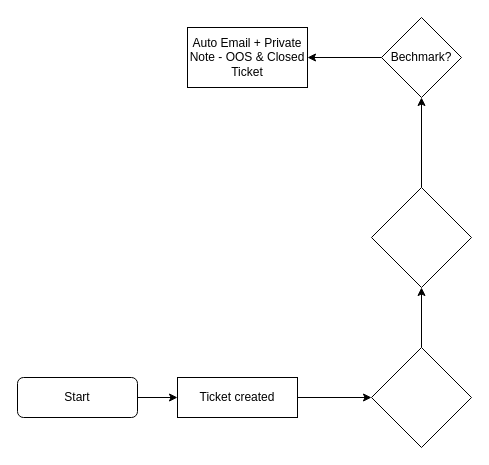
The diagram is 489 pixels wide and 465 high, and some of its shapes have lost their labels. The shapes that lost their labels are listed below. From the top down, each one's box as (x1, y1, x2, y2) in pixels, then its label:
(370, 186, 472, 288): Is Service Offered?
(370, 346, 472, 448): Is Product Only?
